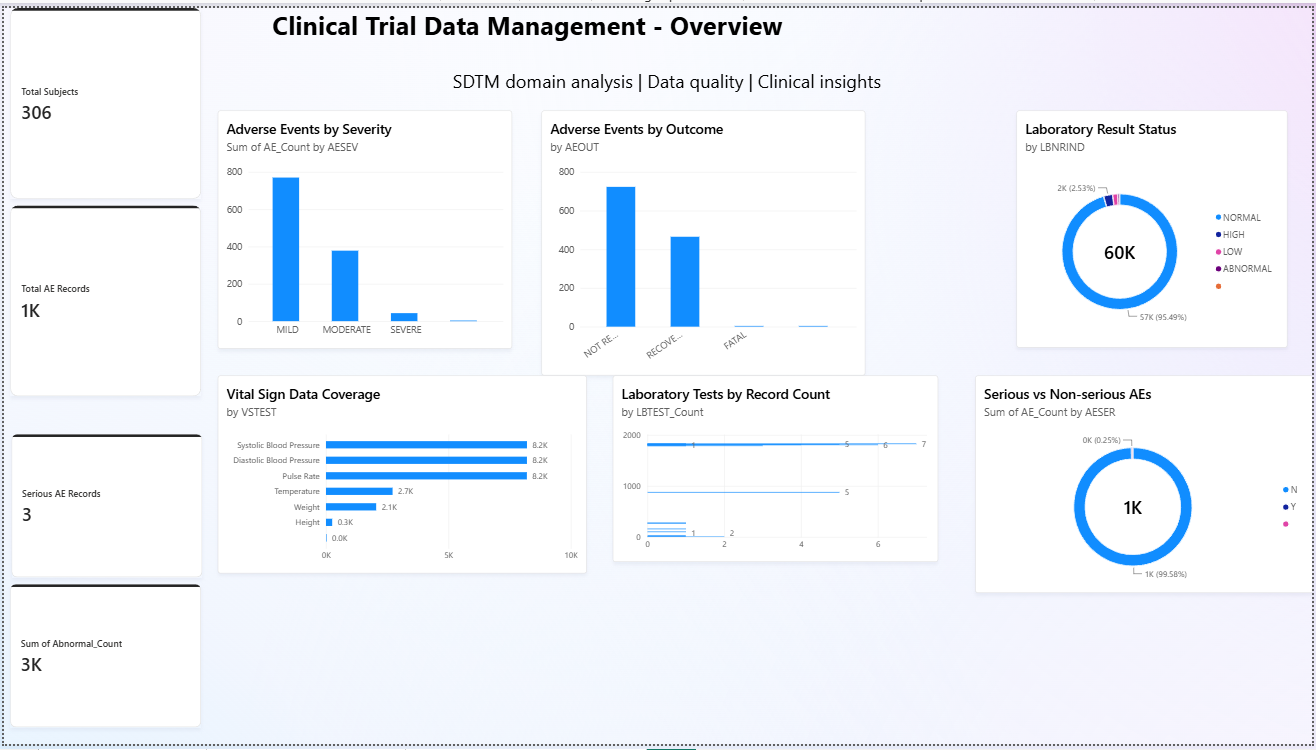

The dashboard page shown, as its layout file describes it:
{"tool":"powerbi","page":{"name":"Clinical Overview","canvas":[1920,1080],"ordinal":0},"visuals":[{"type":"cardVisual","fields":{"Data":["Count(DM.USUBJID)"]},"box":[10,0,280,280],"z":0},{"type":"cardVisual","fields":{"Data":["Sum(AE Summary.AE_Count)"]},"box":[10,290,280,280],"z":1000},{"type":"cardVisual","fields":{"Data":["Sum(AE_Seriousness.AE_Count)"]},"box":[10.3,625.7,280,210],"z":3000},{"type":"cardVisual","fields":{"Data":["Sum(LB_Abnormal.Abnormal_Count)"]},"box":[10,846,280,210],"z":3001},{"type":"clusteredColumnChart","title":"Adverse Events by Severity","fields":{"Category":["AE Summary.AESEV"],"Y":["Sum(AE Summary.AE_Count)"]},"box":[312.9,150.3,432.2,349.9],"z":3002},{"type":"clusteredColumnChart","fields":{"Category":["AE_Outcome.AEOUT"],"Y":["Sum(AE_Outcome.AE_Count)"]},"box":[788.3,150.3,475.5,389],"z":3003},{"type":"donutChart","title":"Serious vs Non-serious AEs","fields":{"Category":["AE_Seriousness.AESER"],"Y":["Sum(AE_Seriousness.AE_Count)"]},"box":[1424.4,539.3,496.1,319],"z":3004},{"type":"donutChart","fields":{"Category":["LB_Abnormal.LBNRIND"],"Y":["Sum(LB_Abnormal.Abnormal_Count)"]},"box":[1486.1,150.3,397.3,347.9],"z":3005},{"type":"clusteredBarChart","fields":{"Category":["LB_Test_Summary.LBTEST_Count"],"Y":["CountNonNull(LB_Test_Summary.LBTEST)"]},"box":[893.3,539.3,477.5,273.8],"z":3006},{"type":"clusteredBarChart","fields":{"Category":["VS_Summary.VSTEST"],"Y":["Sum(VS_Summary.VS_Record_Count)"]},"box":[312.9,539.3,541.3,290.2],"z":3008},{"type":"textbox","box":[312.9,0,950.9,63.8],"z":3009},{"type":"textbox","box":[658.7,88.5,848,80.3],"z":3010}]}

Visuals, with their boxes in screenshot pixels (x1, y1, x2, y2), scaled from the page's 1920x1080 canvas onto the 1316x750 screenshot:
cardVisual - Count(DM.USUBJID): region(7, 0, 199, 194)
cardVisual - Sum(AE Summary.AE_Count): region(7, 201, 199, 396)
cardVisual - Sum(AE_Seriousness.AE_Count): region(7, 435, 199, 580)
cardVisual - Sum(LB_Abnormal.Abnormal_Count): region(7, 588, 199, 733)
"Adverse Events by Severity" clusteredColumnChart: region(214, 104, 511, 347)
clusteredColumnChart - AE_Outcome.AEOUT x Sum(AE_Outcome.AE_Count): region(540, 104, 866, 375)
"Serious vs Non-serious AEs" donutChart: region(976, 375, 1315, 596)
donutChart - LB_Abnormal.LBNRIND x Sum(LB_Abnormal.Abnormal_Count): region(1019, 104, 1291, 346)
clusteredBarChart - LB_Test_Summary.LBTEST_Count x CountNonNull(LB_Test_Summary.LBTEST): region(612, 375, 940, 565)
clusteredBarChart - VS_Summary.VSTEST x Sum(VS_Summary.VS_Record_Count): region(214, 375, 585, 576)
textbox: region(214, 0, 866, 44)
textbox: region(451, 61, 1033, 117)
